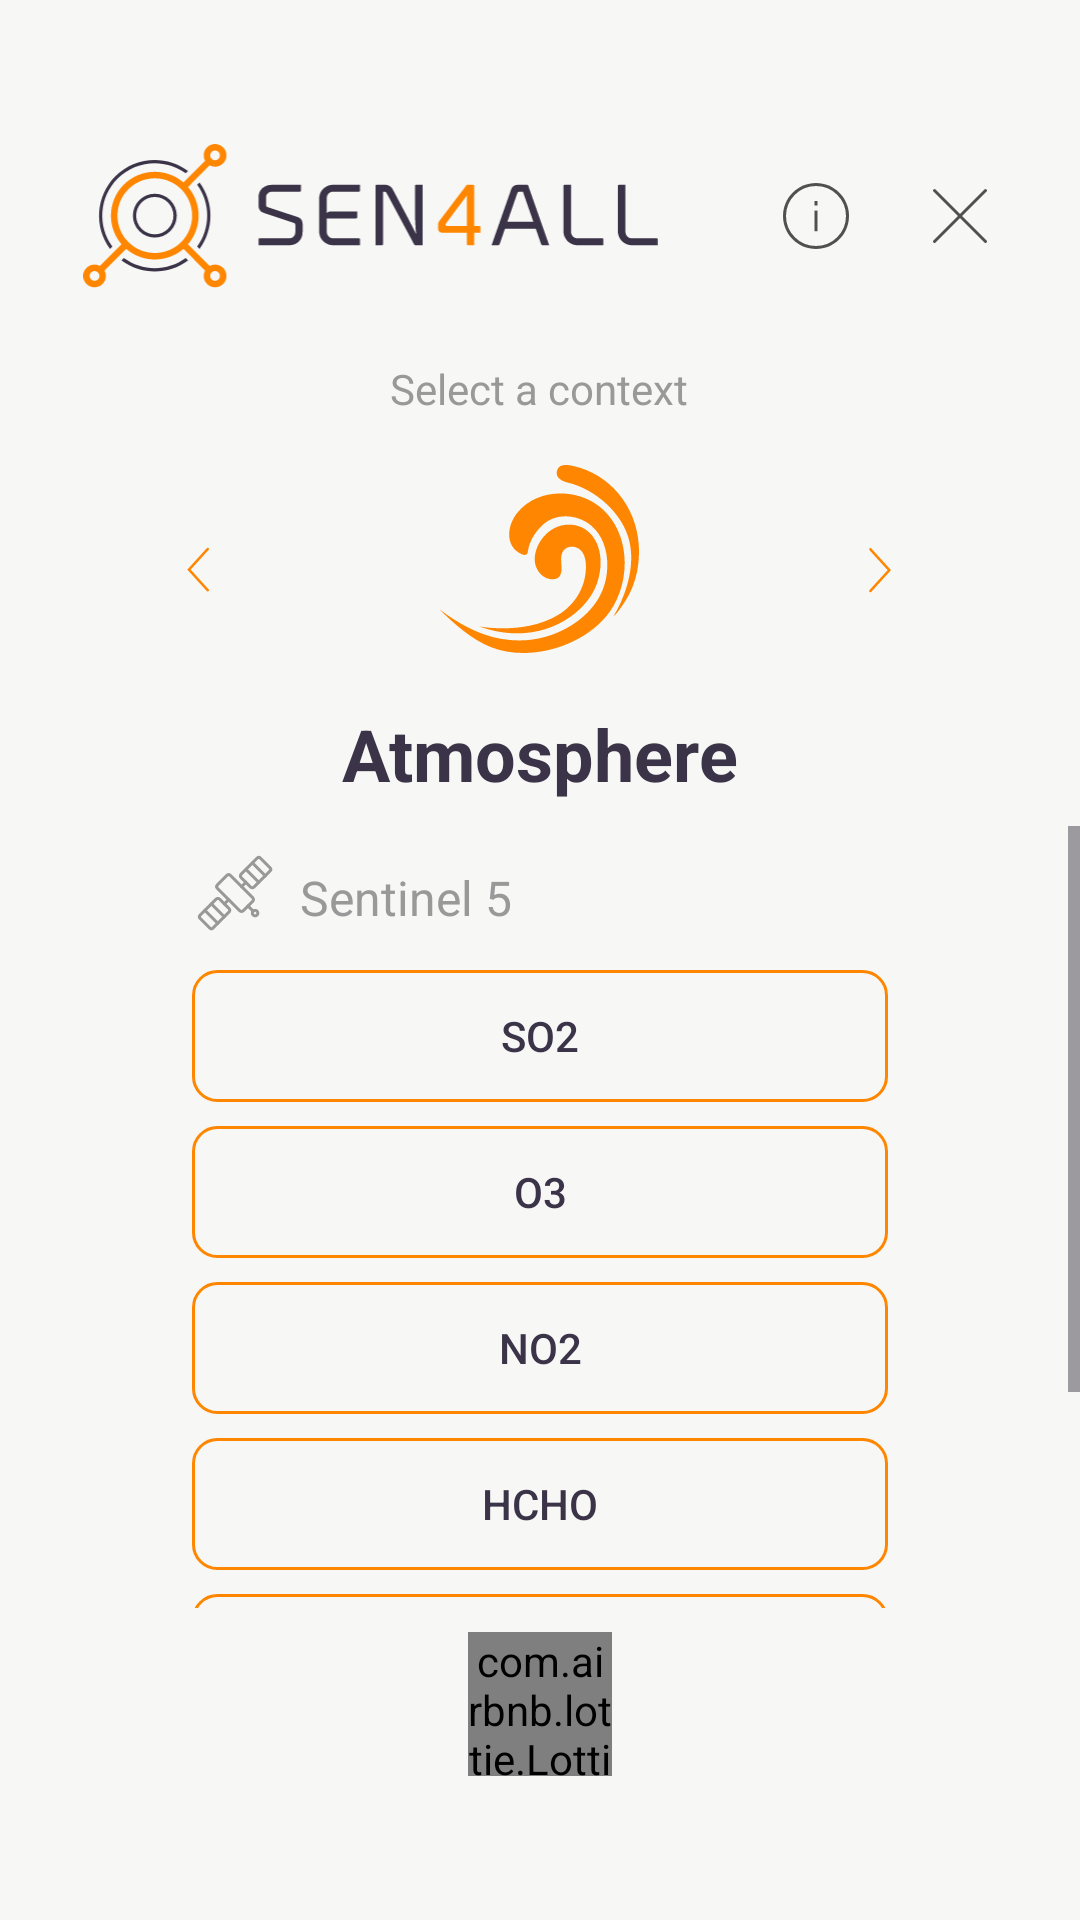

Screen size 1080px x 1920px. Icon name, then its center in pixels as (x=x, y=y):
Cancel: (x=960, y=216)
Info: (x=816, y=216)
Left: (x=198, y=569)
Right: (x=880, y=570)
